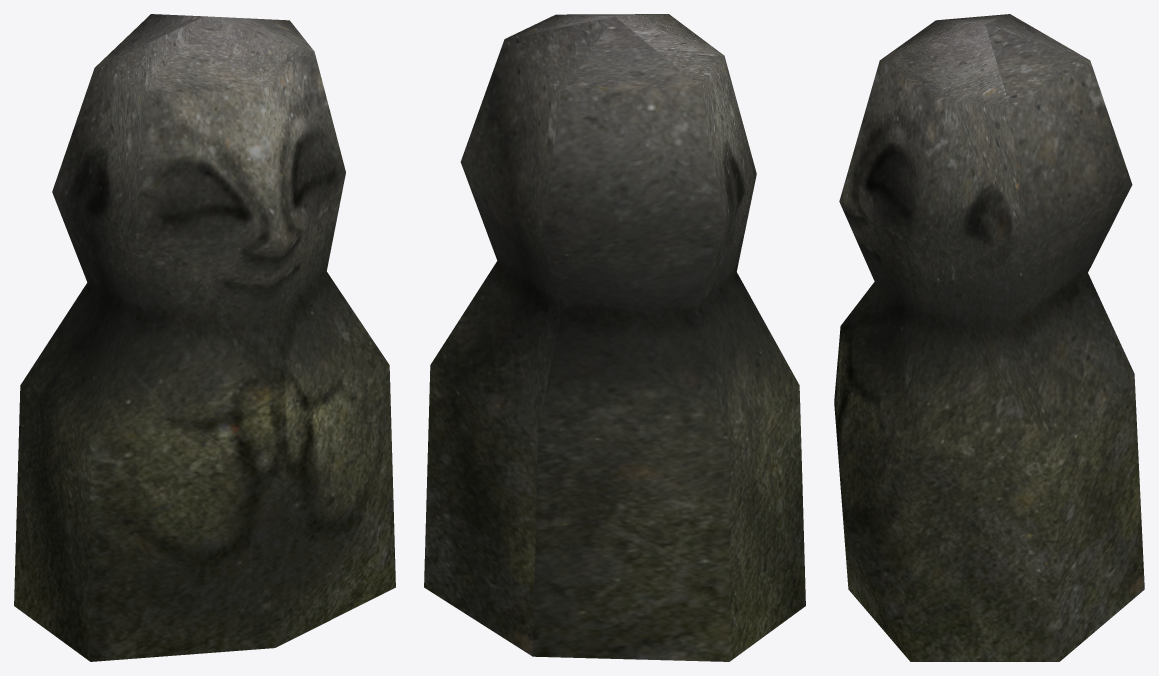
The model's file is jizo_statue.fbx.
3 views of the same model, side by side, from view 1: azimuth 30°, elevation 25°; view 2: azimuth 150°, elevation 25°; view 3: azimuth 270°, elevation 25° (orthographic). The views are drawn at different scales.
Visible parts, largest first — view 1: Cube.001; view 2: Cube.001; view 3: Cube.001.
Part boxes in pixels (left/top/right/bottom): Cube.001: left=14, top=14, right=395, bottom=661; Cube.001: left=424, top=14, right=805, bottom=661; Cube.001: left=834, top=14, right=1144, bottom=661.
Bounding box in the file's own units: 70.99 × 129 × 64.2.
Materials: 1 (1 with a texture image).
